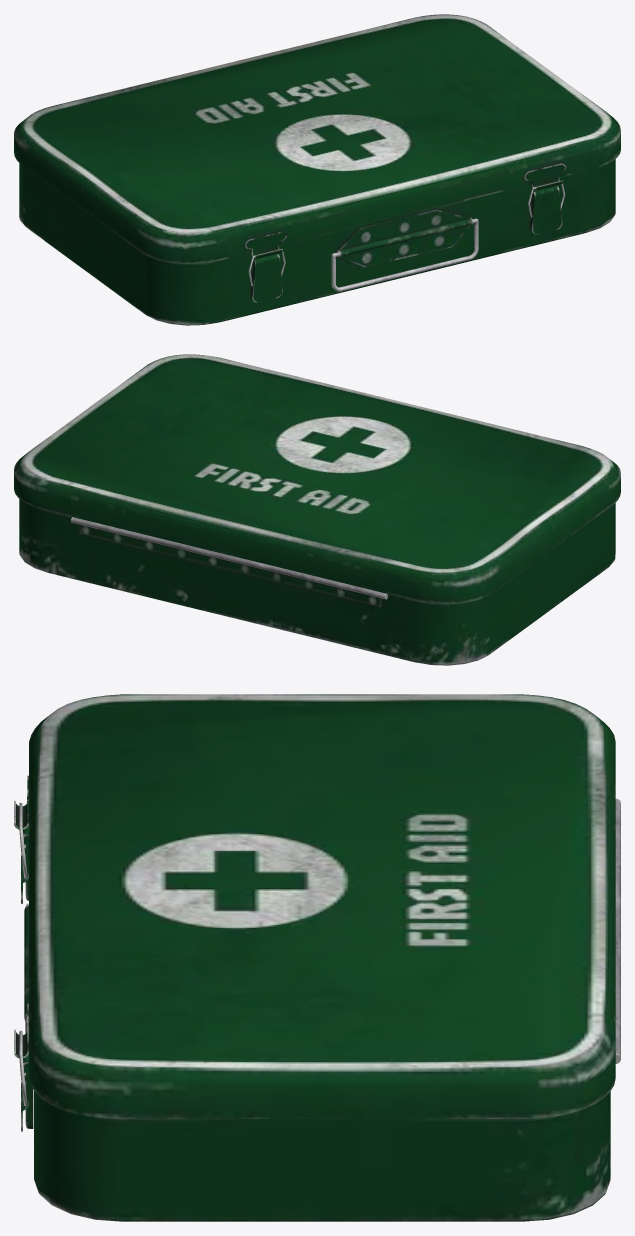
File: medical_box.glb
3 views of the same model, one above another, from view 1: azimuth 30°, elevation 25°; view 2: azimuth 150°, elevation 25°; view 3: azimuth 270°, elevation 25° (orthographic). The views are drawn at different scales.
Visible parts, largest first — view 1: medical_box_latch; view 2: medical_box_latch; view 3: medical_box_latch.
Boxes of the visible parts, x1,y1,x2,y2 form: medical_box_latch: [14, 14, 620, 325]; medical_box_latch: [14, 354, 620, 665]; medical_box_latch: [14, 694, 620, 1221].
Bounding box in the file's own units: 0.5255 × 0.0975 × 0.3501.
1 material, 1 textured.
